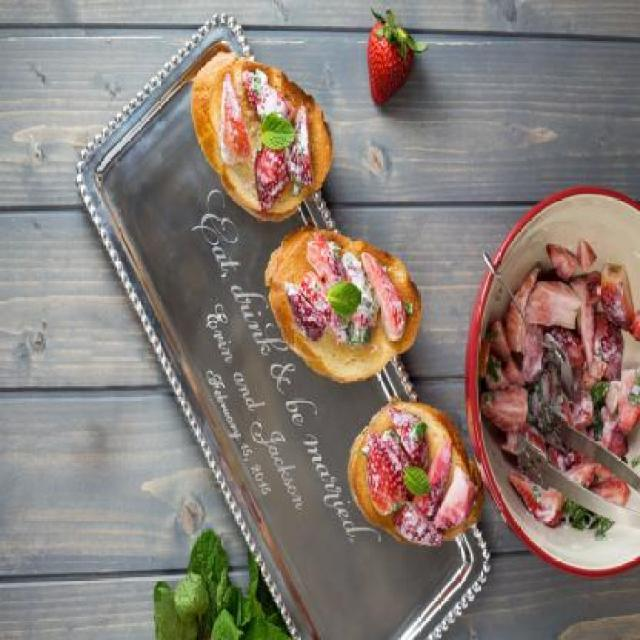Strawberry: (474, 251, 638, 543), (298, 264, 350, 354), (364, 17, 420, 92), (363, 432, 411, 518), (361, 252, 405, 341), (340, 252, 378, 346), (434, 459, 482, 533), (239, 70, 296, 132), (382, 428, 431, 499), (412, 439, 452, 521), (254, 131, 292, 214), (220, 72, 252, 163), (286, 100, 317, 191), (390, 501, 450, 548), (282, 276, 324, 341), (390, 404, 428, 466), (306, 233, 344, 293)
